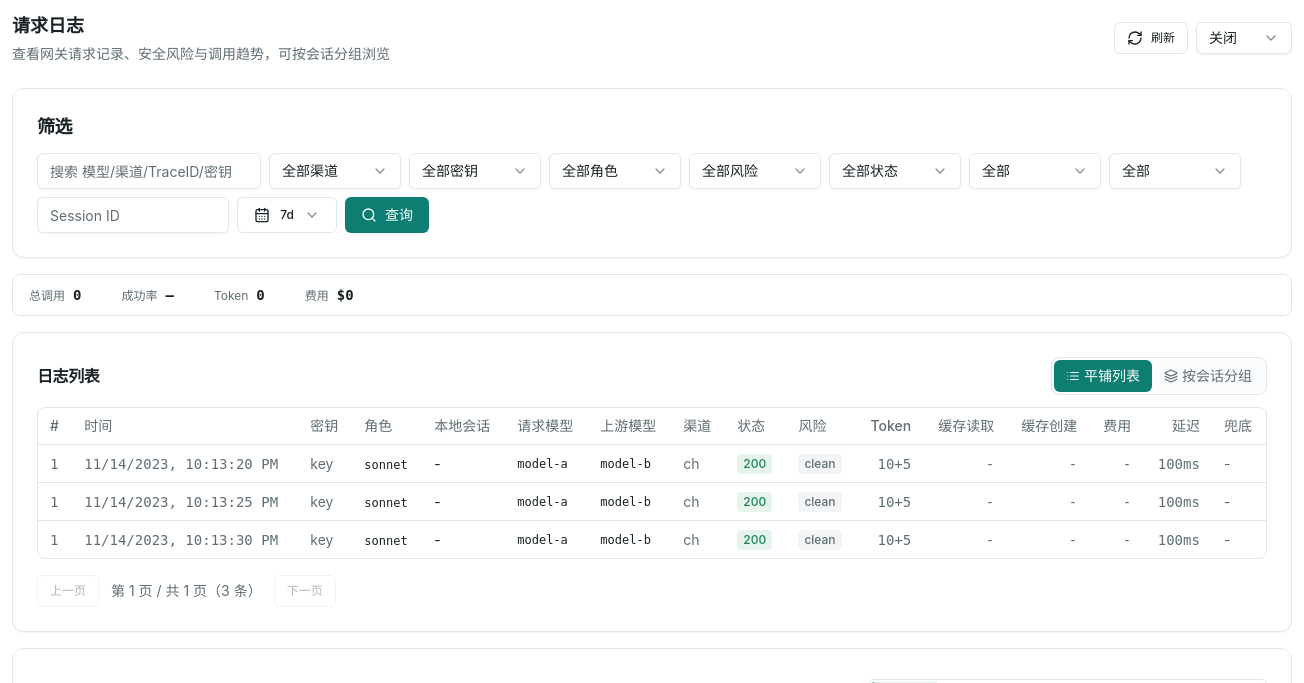
Test: LogsPage › 按会话分组视图：按 trace_id 分组并展示会话汇总
Click the button "按会话分组": x=1208, y=376 [1152,360,1264,392]
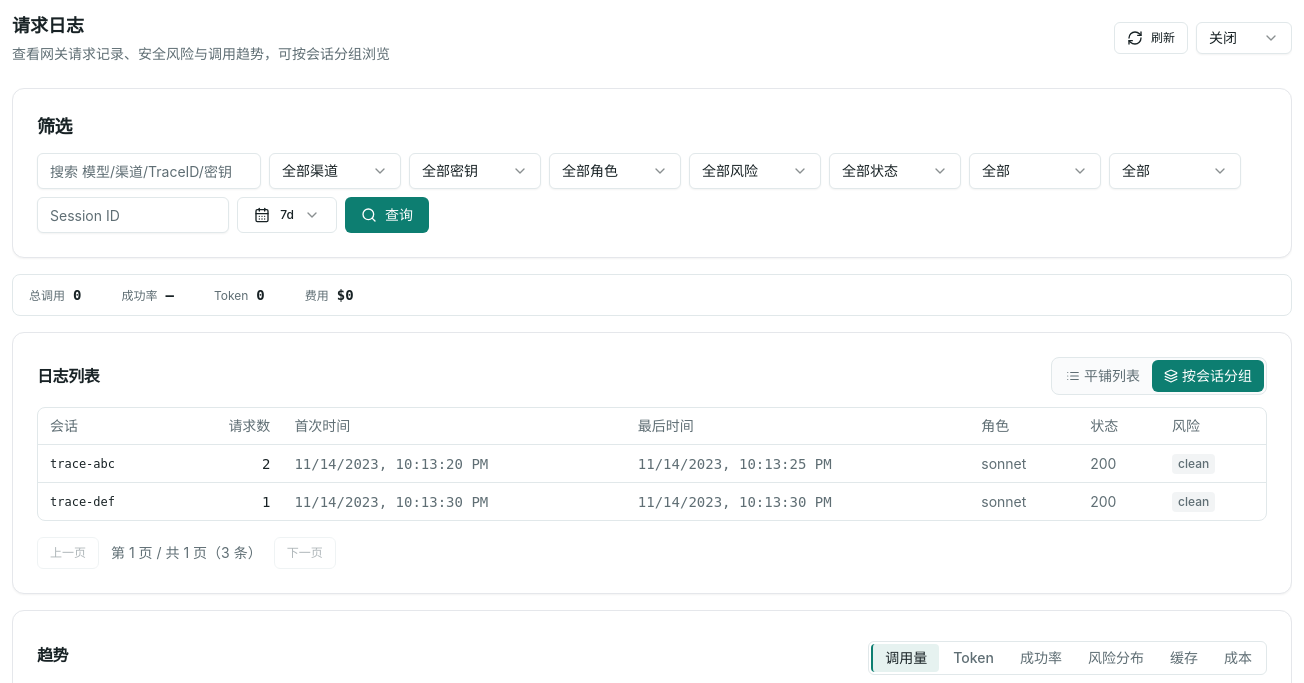
Now the text "trace-abc" is shown, box [50,456,115,472]
Now the text "trace-def" is shown, box [50,494,115,510]
Now the text "2" is shown, box [178,444,282,482]
